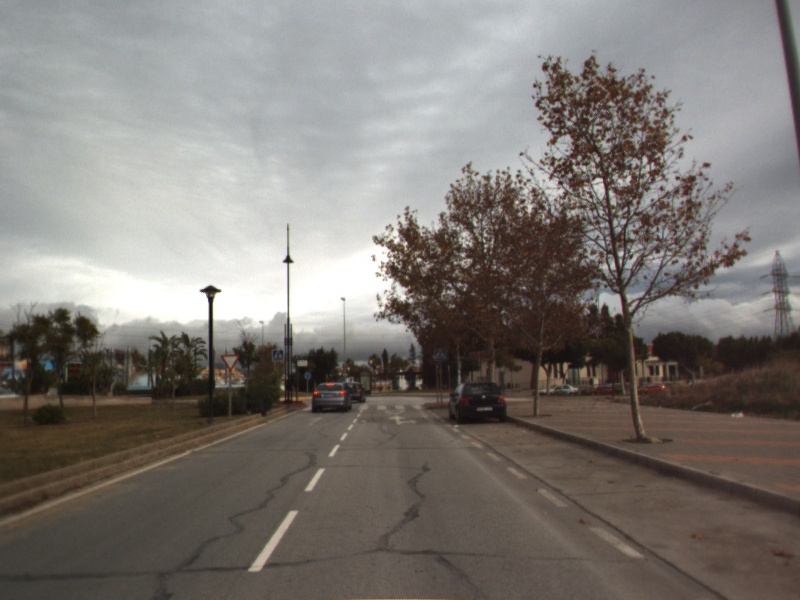STRAIGHT: (306, 415, 326, 428)
STRAIGHT_RIGHT: (386, 413, 420, 427)
